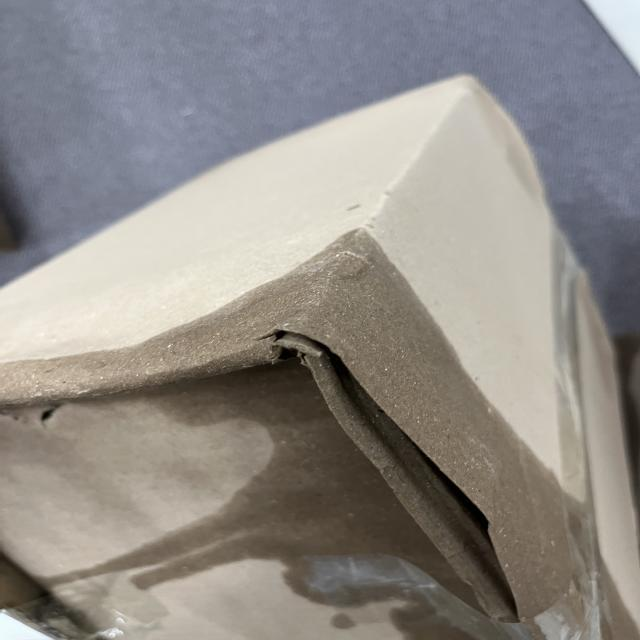wet: (203, 230, 599, 639)
